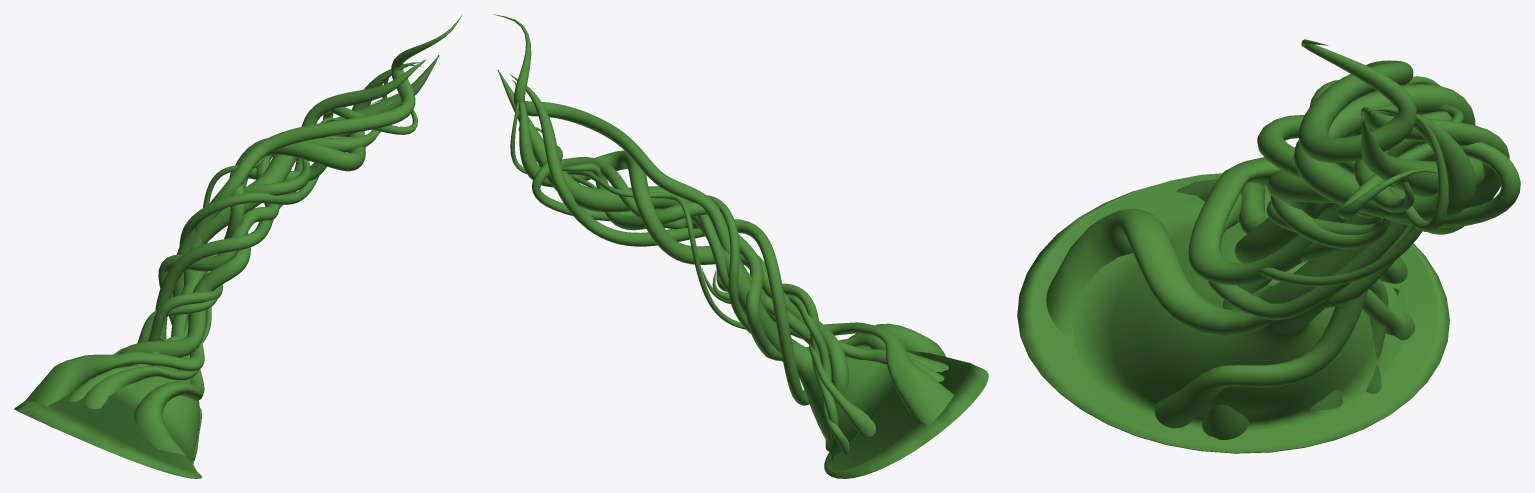
The model's file is BeanstalkBridge#10_NoLeaves.fbx.
3 views of the same model, side by side, from view 1: azimuth 30°, elevation 25°; view 2: azimuth 150°, elevation 25°; view 3: azimuth 270°, elevation 25° (orthographic). The views are drawn at different scales.
Visible parts, largest first — view 1: Stalk12.001, Stalk12.010, Stalk12.005, Stalk12, Stalk12.006, Stalk12.002, Stalk12.003, Stalk12.004, Stalk12.007, Stalk12.009, Stalk12.008; view 2: Stalk12.001, Stalk12.010, Stalk12.002, Stalk12, Stalk12.005, Stalk12.006, Stalk12.009, Stalk12.003, Stalk12.004, Stalk12.008, Stalk12.007; view 3: Stalk12.001, Stalk12.010, Stalk12.005, Stalk12, Stalk12.002, Stalk12.006, Stalk12.009, Stalk12.007, Stalk12.008, Stalk12.003, Stalk12.004.
Part boxes in pixels (x1,y1,x2,y2): Stalk12.001: (14, 54, 439, 478); Stalk12.010: (24, 14, 462, 406); Stalk12.005: (134, 101, 391, 457); Stalk12: (115, 62, 419, 368); Stalk12.006: (83, 97, 417, 409); Stalk12.002: (155, 59, 426, 460); Stalk12.003: (171, 117, 337, 382); Stalk12.004: (68, 135, 364, 401); Stalk12.007: (148, 284, 222, 341); Stalk12.009: (48, 63, 423, 427); Stalk12.008: (130, 298, 217, 365); Stalk12.001: (497, 69, 988, 478); Stalk12.010: (493, 14, 954, 426); Stalk12.002: (510, 74, 809, 405); Stalk12: (512, 80, 848, 451); Stalk12.005: (534, 127, 945, 360); Stalk12.006: (518, 127, 948, 371); Stalk12.009: (510, 102, 875, 436); Stalk12.003: (561, 163, 810, 344); Stalk12.004: (561, 164, 944, 381); Stalk12.008: (712, 269, 849, 453); Stalk12.007: (701, 268, 838, 460); Stalk12.001: (1017, 117, 1484, 453); Stalk12.010: (1188, 39, 1416, 285); Stalk12.005: (1046, 111, 1451, 340); Stalk12: (1234, 84, 1476, 409); Stalk12.002: (1154, 107, 1509, 428); Stalk12.006: (1176, 80, 1520, 320); Stalk12.009: (1259, 76, 1463, 286); Stalk12.007: (1270, 195, 1390, 393); Stalk12.008: (1266, 200, 1415, 340); Stalk12.003: (1202, 139, 1427, 439); Stalk12.004: (1238, 161, 1394, 262).
Bounding box in the file's own units: 199 × 152 × 97.44.
